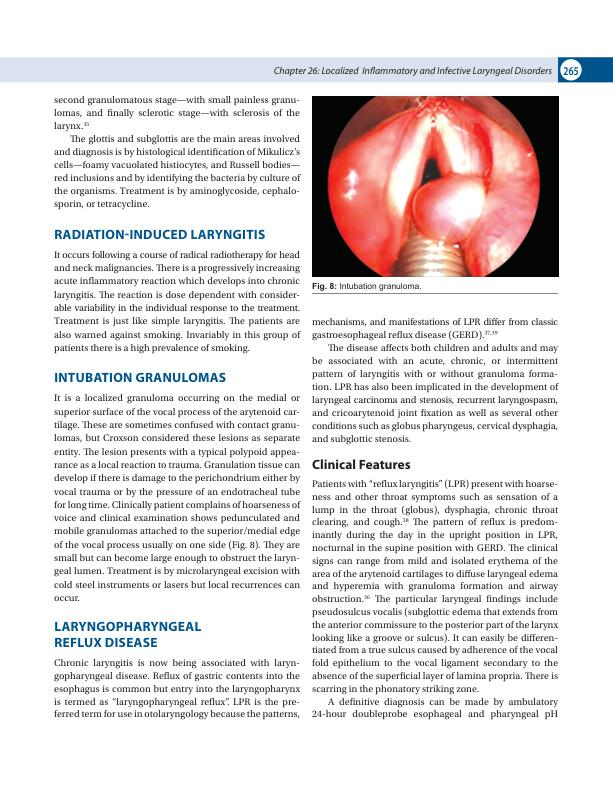caption: (311, 282, 422, 293)
header: (272, 66, 553, 78)
image: (311, 95, 560, 278)
section-heading: (53, 620, 203, 649), (54, 229, 267, 240), (53, 371, 227, 384)
sub-section-heading: (311, 458, 412, 471)
text: (311, 479, 560, 720), (53, 392, 302, 603), (311, 317, 561, 445), (52, 94, 301, 211), (52, 250, 302, 354), (53, 657, 300, 721)
